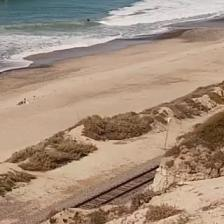surfer: (87, 19, 90, 21)
